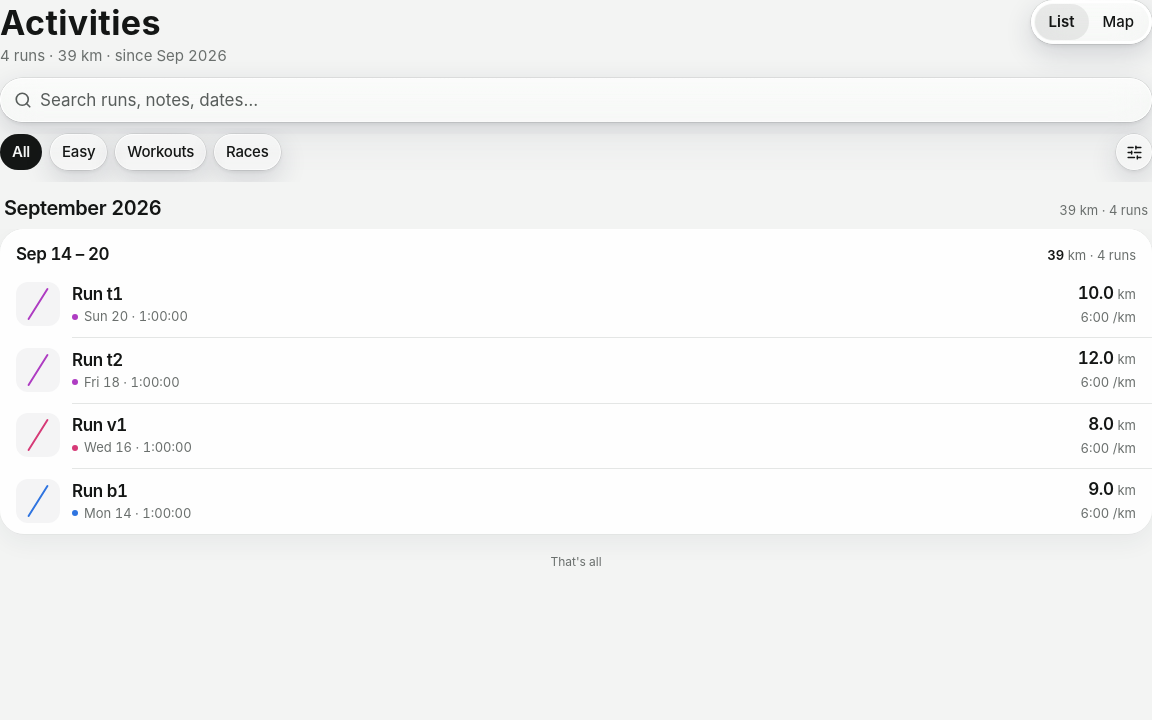
Test: the filter sheet › collapses a whole group's types back into its chip
Step 1. Click the button named "Filter & sort" → [1134, 152], box [1116, 134, 1151, 170]
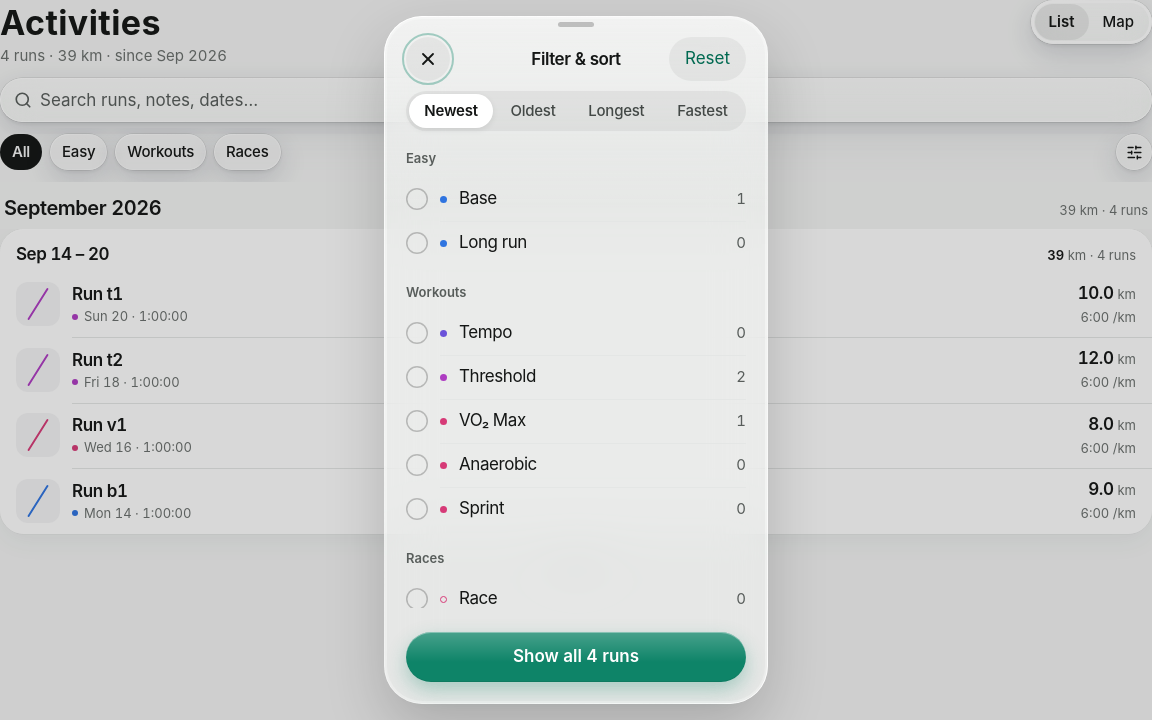
Step 2. Click the checkbox labelled "Base 1" → [478, 198], box [406, 177, 746, 221]
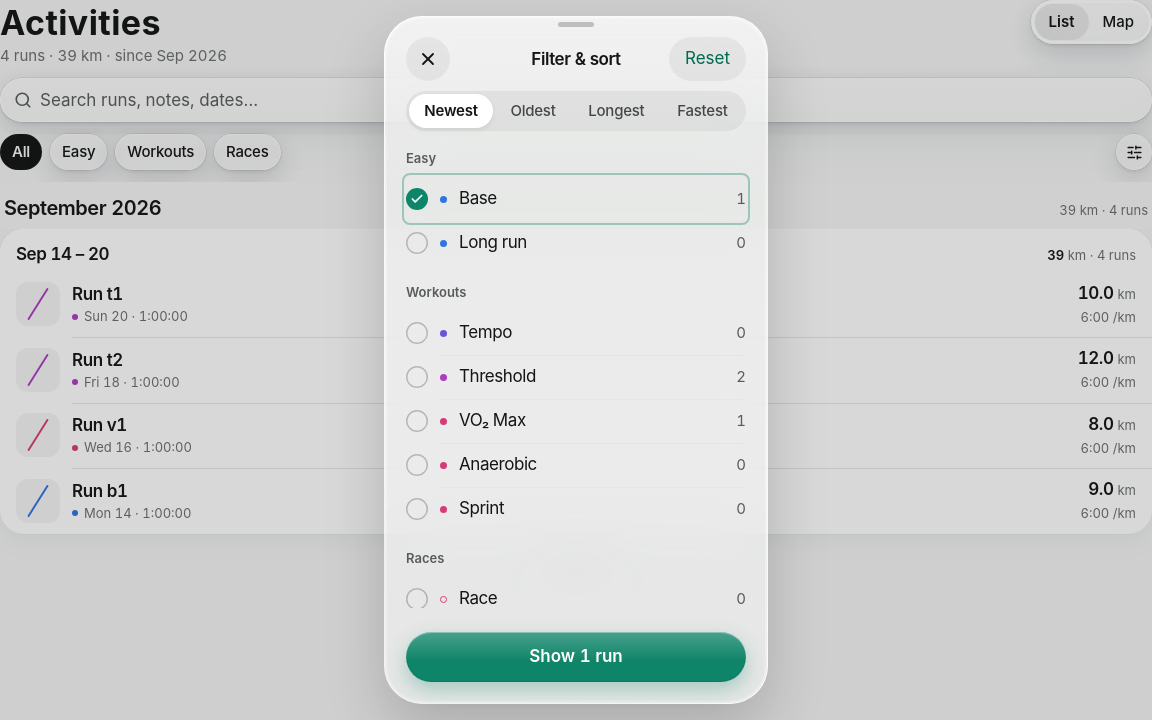
Step 3. Click the checkbox labelled "Long run 0" → [493, 242], box [406, 221, 746, 265]
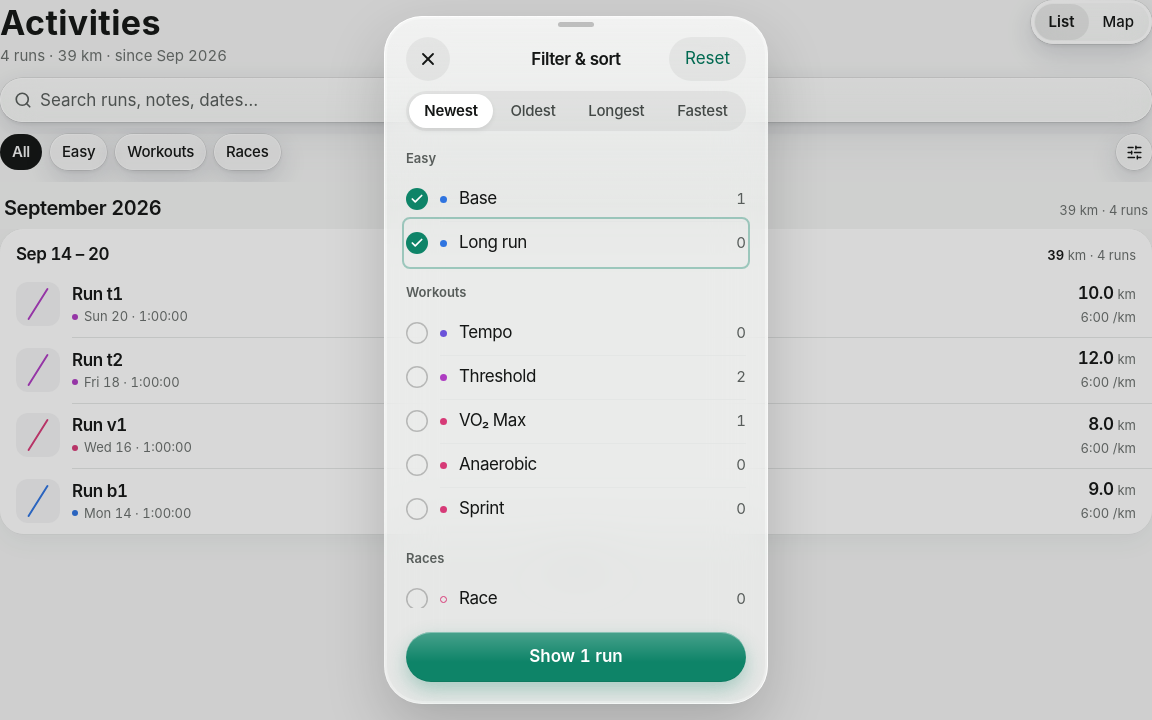
Step 4. Click the button "Show 1 run" → [576, 657], box [406, 632, 746, 682]
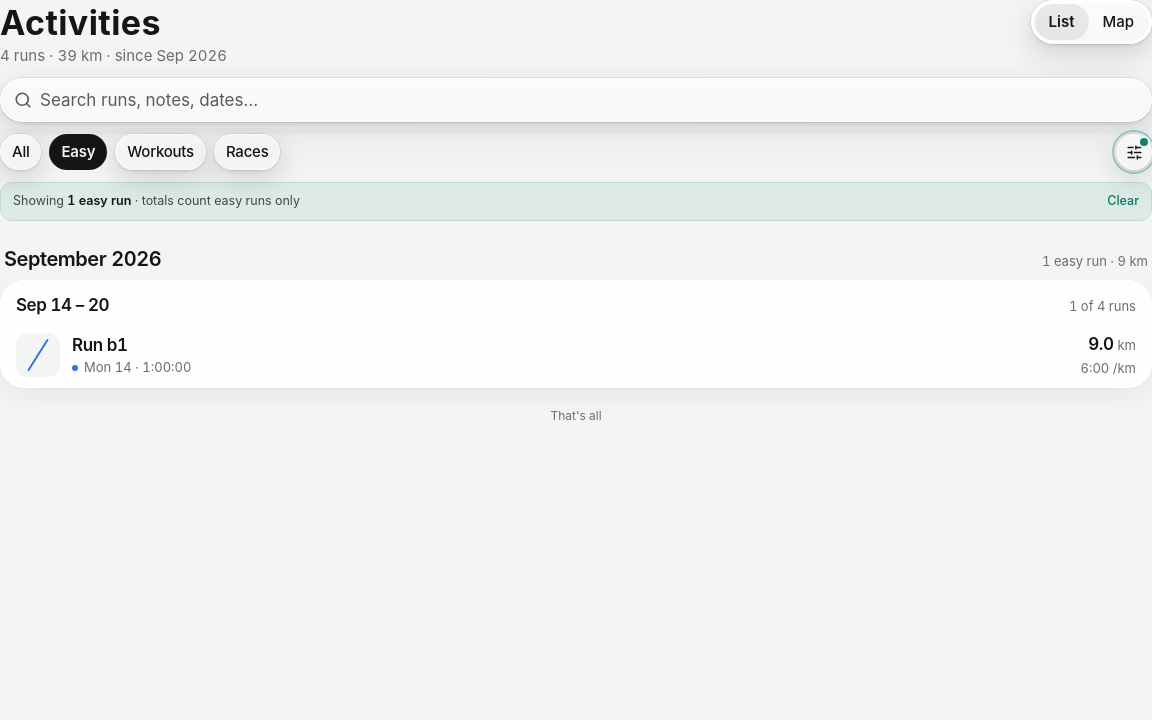
Check: the dialog is gone
